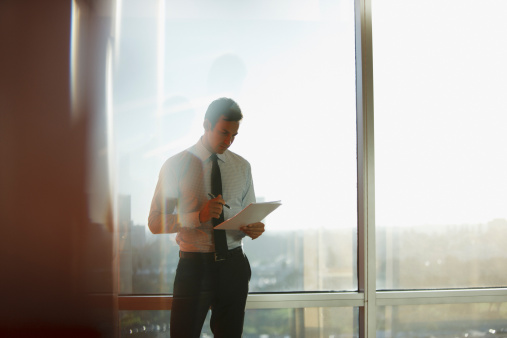em pe: (148, 95, 249, 338)
